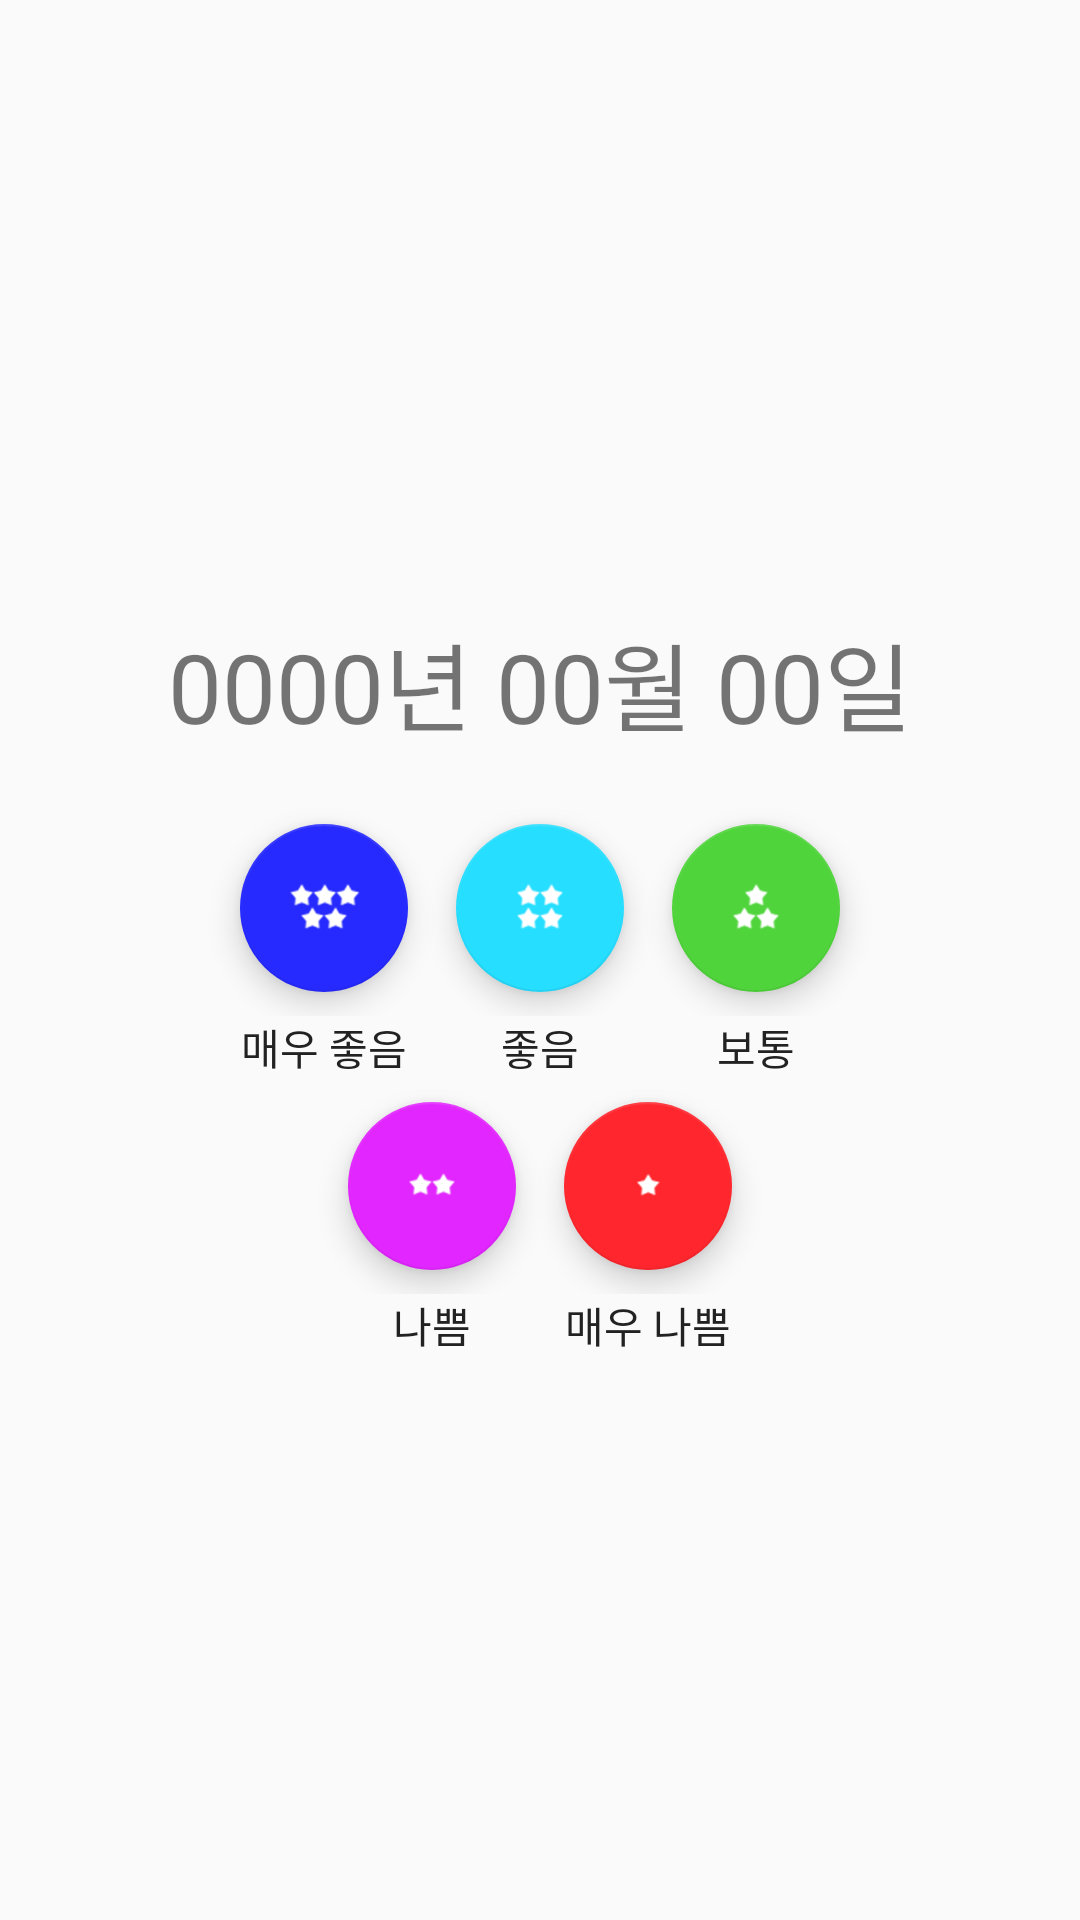

Named icons in this screenshot (1080w x 1920h) and their centers, [x,y]:
star: [324,908], [540,908], [756,908], [432,1186], [648,1186]
